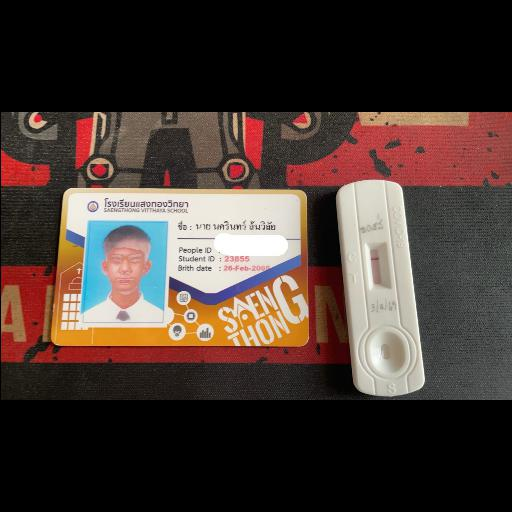Neg: (334, 178, 425, 396)
